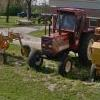Tractor: (22, 4, 88, 80)
